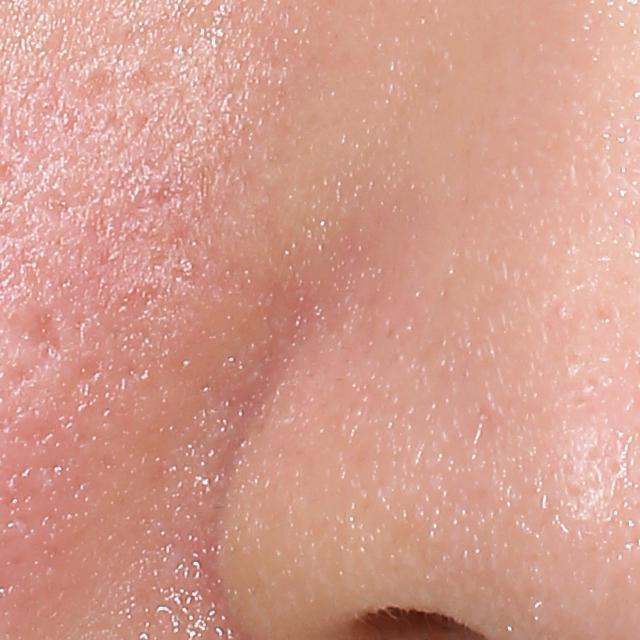atrophic_scar: (59, 278, 161, 401), (80, 60, 160, 153), (8, 297, 66, 358)
